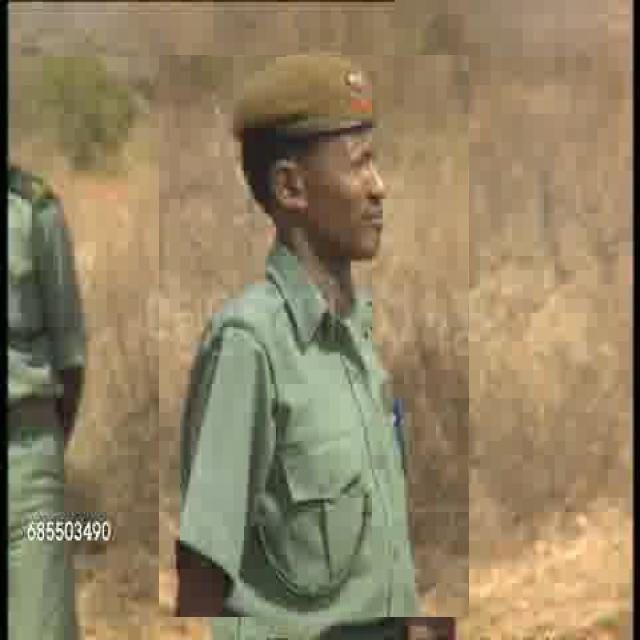poacher: (159, 55, 469, 617)
